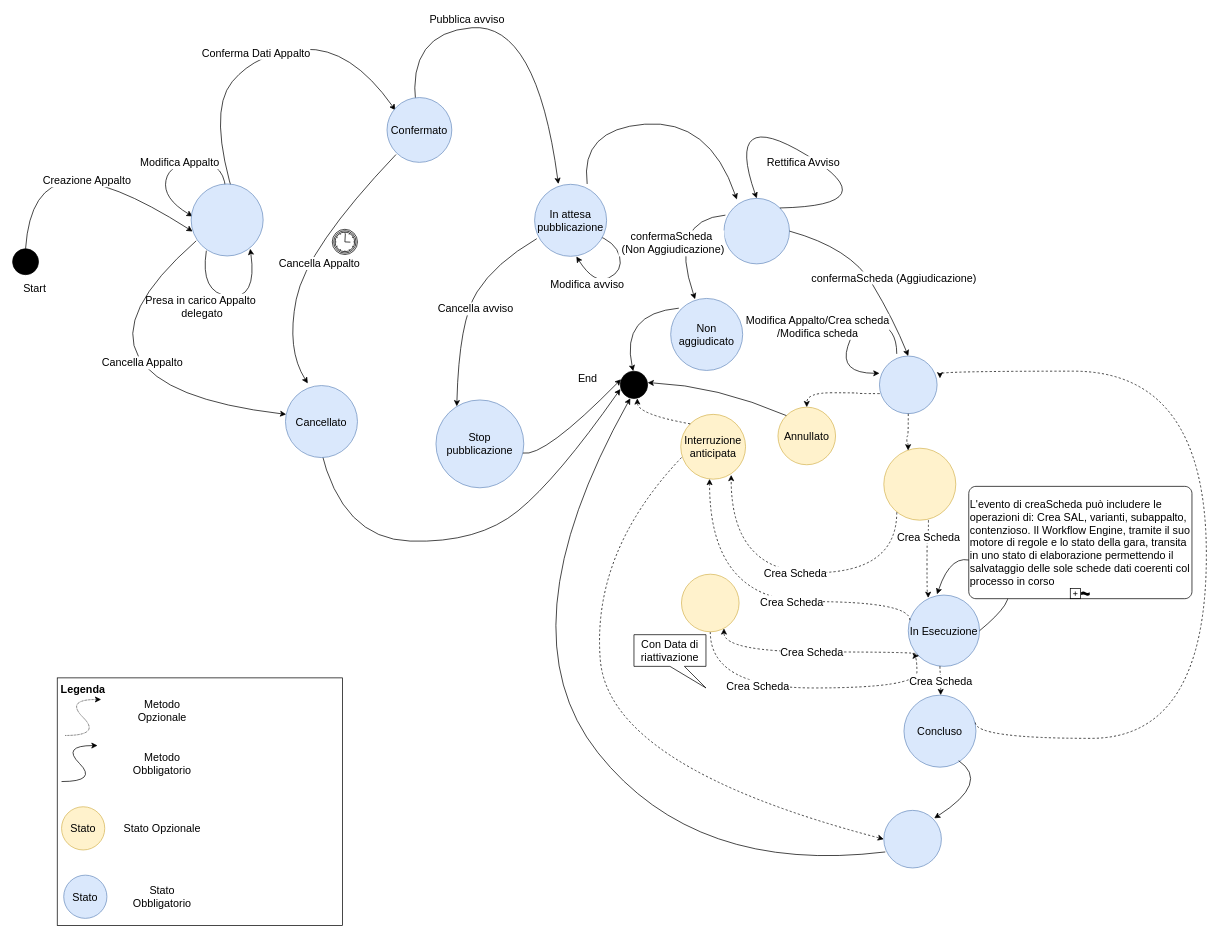
This 1219x938 diagram has some shape labels left out. The centre of each missing label's shape, as x and y in pixels:
"Aggiudicato" belongs at (x=908, y=384).
"Collaudato" belongs at (x=912, y=839).
"In lavorazione" belongs at (x=226, y=219).
"Pubblicato" belongs at (x=756, y=231).
"Sospeso" belongs at (x=710, y=602).
"Sottoscrizione contratto" belongs at (x=919, y=483).
